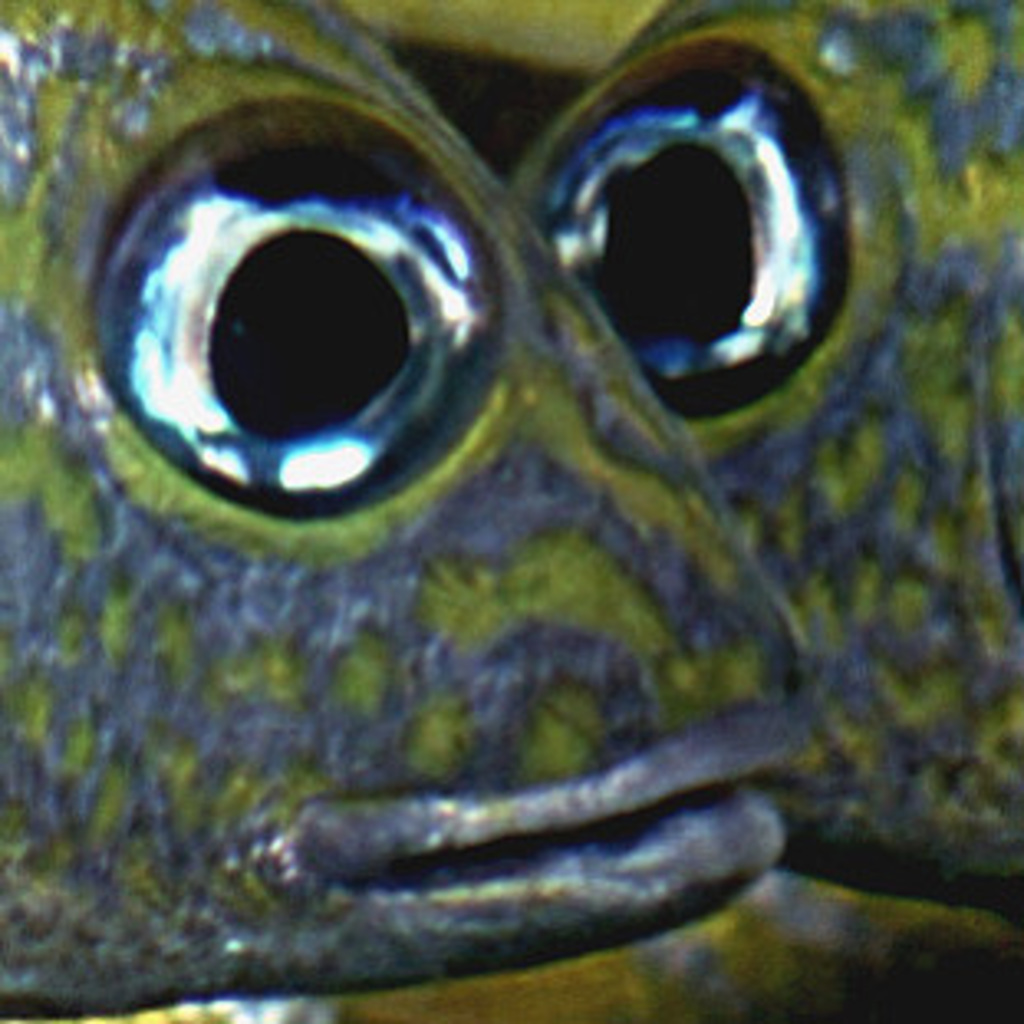Animal: (0, 0, 828, 1020), (500, 0, 1020, 930)
